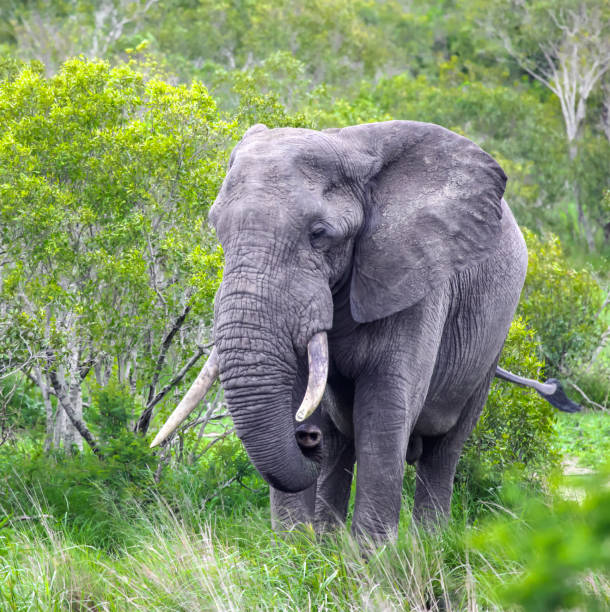africanelephant: (179, 106, 419, 464)
